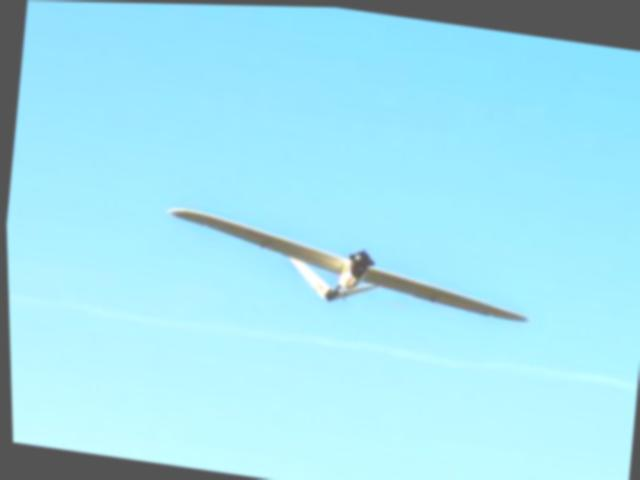uav: (158, 202, 534, 327)
